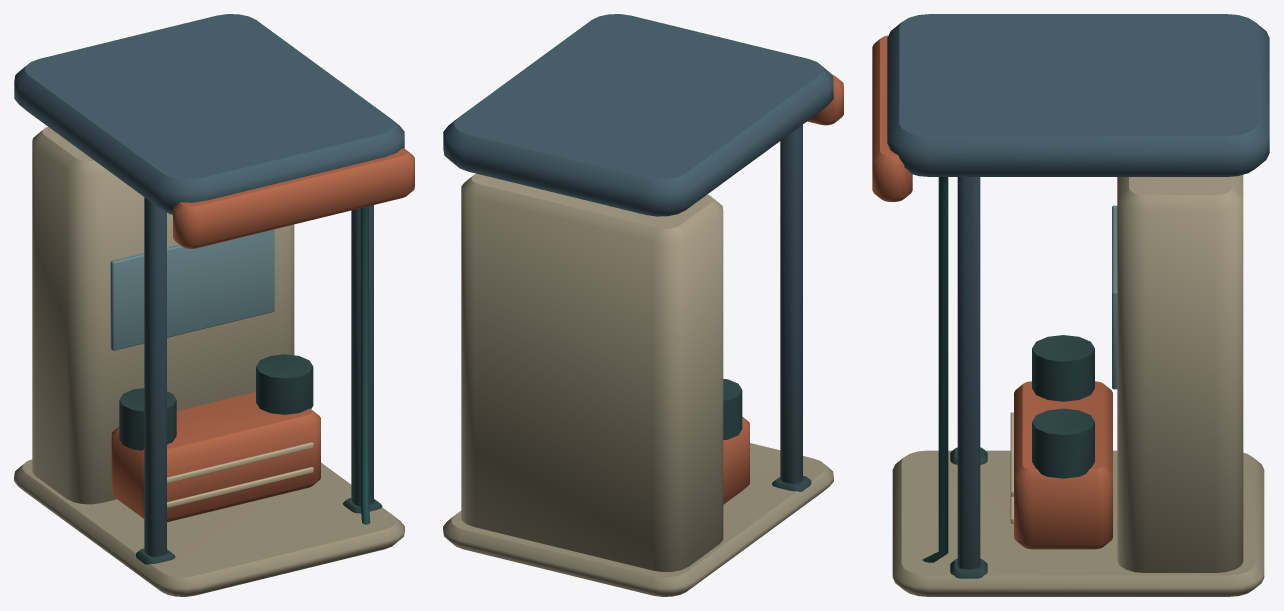
Rendered from annex_tires_5.glb.
3 views of the same model, side by side, from view 1: azimuth 30°, elevation 25°; view 2: azimuth 150°, elevation 25°; view 3: azimuth 270°, elevation 25° (orthographic). The views are drawn at different scales.
Visible parts, largest first — view 1: AnnexTires5; view 2: AnnexTires5; view 3: AnnexTires5.
Boxes of the visible parts, <box> form: AnnexTires5: <box>14,14,414,596</box>; AnnexTires5: <box>443,14,843,596</box>; AnnexTires5: <box>872,14,1269,596</box>.
Size of the model in its own units: 2.09 by 3.38 by 2.65.
